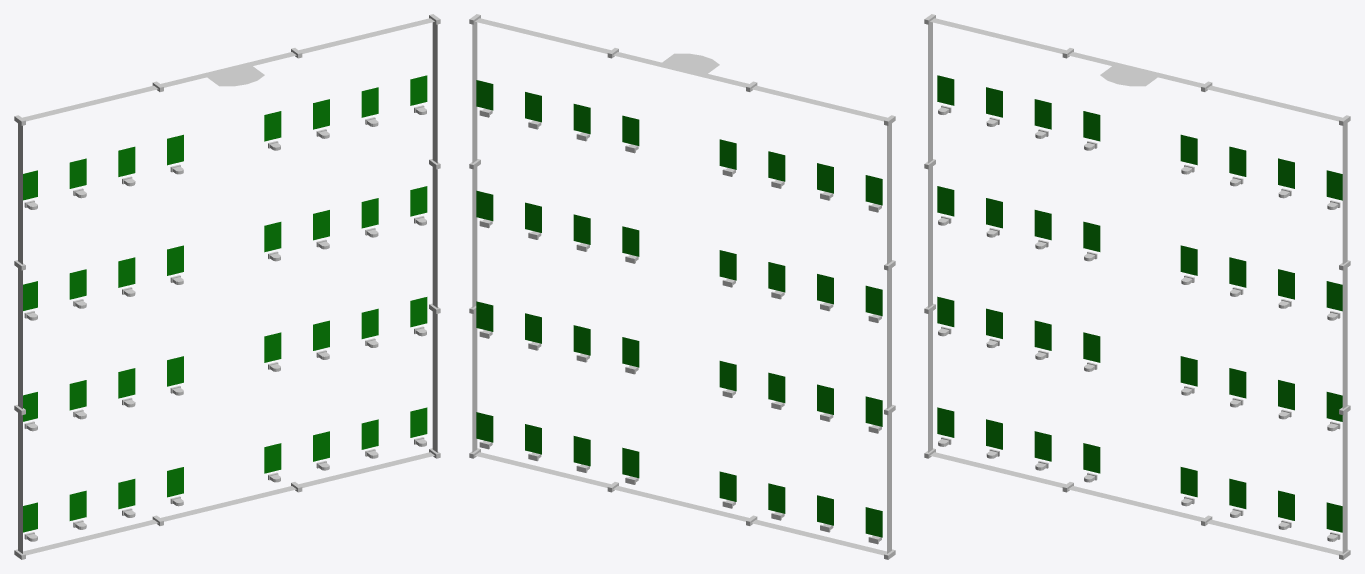
File: EnvironmentBlocking.fbx
3 renders of one model, left to right at view 1: azimuth 30°, elevation 25°; view 2: azimuth 150°, elevation 25°; view 3: azimuth 330°, elevation 25°, orthographic.
Visible parts, largest first — view 1: Graveplots, Fences, Gravestones, Gate, Posts; view 2: Graveplots, Fences, Gravestones, Gate, Posts; view 3: Graveplots, Fences, Gravestones, Gate, Posts.
Part boxes in pixels (x1=…): Graveplots: x1=23, y1=75, x2=427, y2=532; Fences: x1=18, y1=18, x2=437, y2=555; Gravestones: x1=24, y1=105, x2=426, y2=541; Gate: x1=161, y1=52, x2=296, y2=87; Posts: x1=14, y1=14, x2=440, y2=559; Graveplots: x1=476, y1=80, x2=882, y2=537; Fences: x1=472, y1=18, x2=891, y2=555; Gravestones: x1=479, y1=108, x2=881, y2=544; Gate: x1=613, y1=52, x2=748, y2=87; Posts: x1=469, y1=14, x2=895, y2=559; Graveplots: x1=937, y1=75, x2=1342, y2=532; Fences: x1=928, y1=18, x2=1347, y2=555; Gravestones: x1=938, y1=105, x2=1340, y2=541; Gate: x1=1068, y1=52, x2=1203, y2=87; Posts: x1=924, y1=14, x2=1350, y2=559.
Size of the model in its own units: 49.5 by 49.5 by 4.76.
